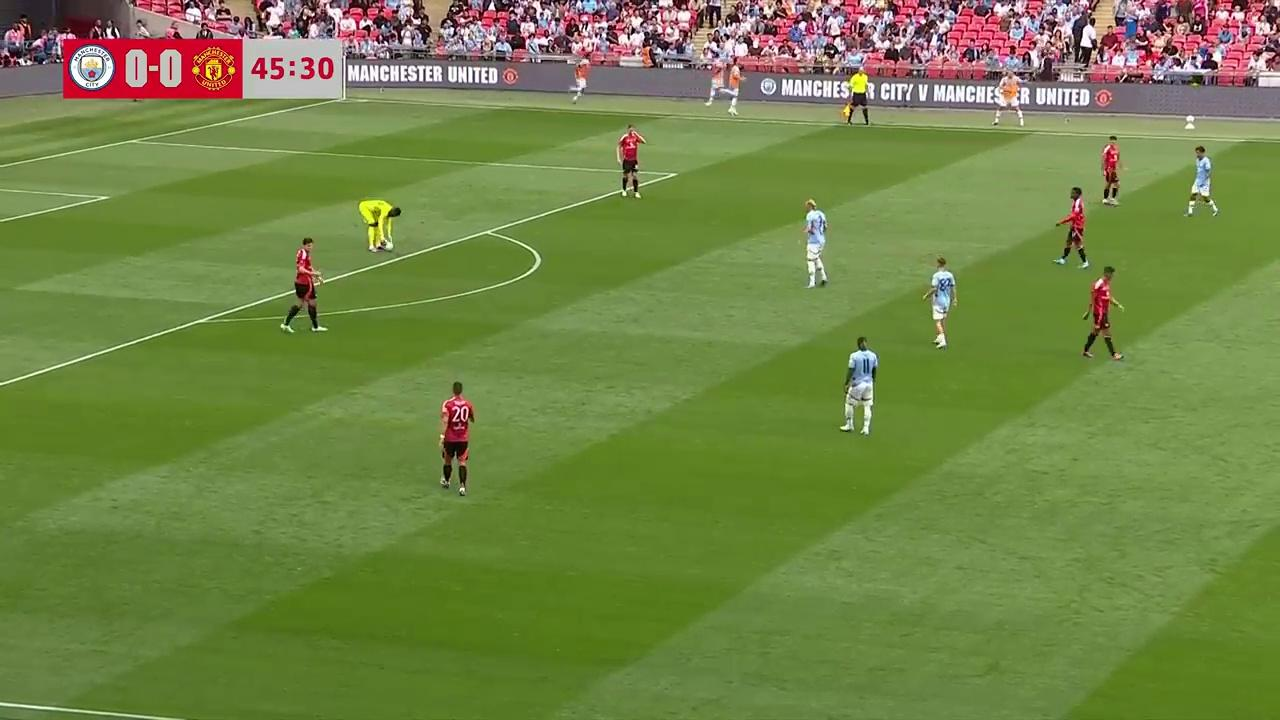player: (438, 380, 476, 495), (280, 239, 326, 333), (1080, 266, 1125, 361), (841, 335, 878, 436), (923, 256, 957, 349), (1053, 187, 1089, 269), (1184, 145, 1219, 218), (802, 199, 829, 288), (359, 195, 400, 253), (617, 130, 643, 199), (1101, 135, 1126, 206)
referee: (842, 67, 871, 127)
